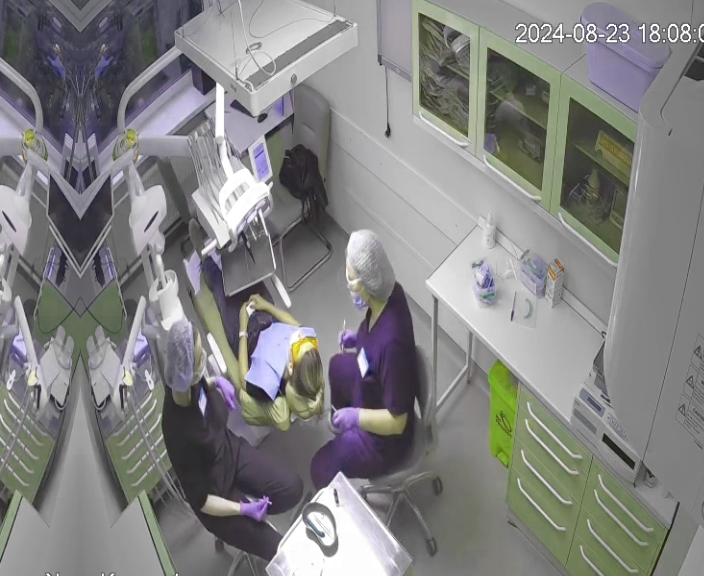Patient: (174, 235, 324, 429)
